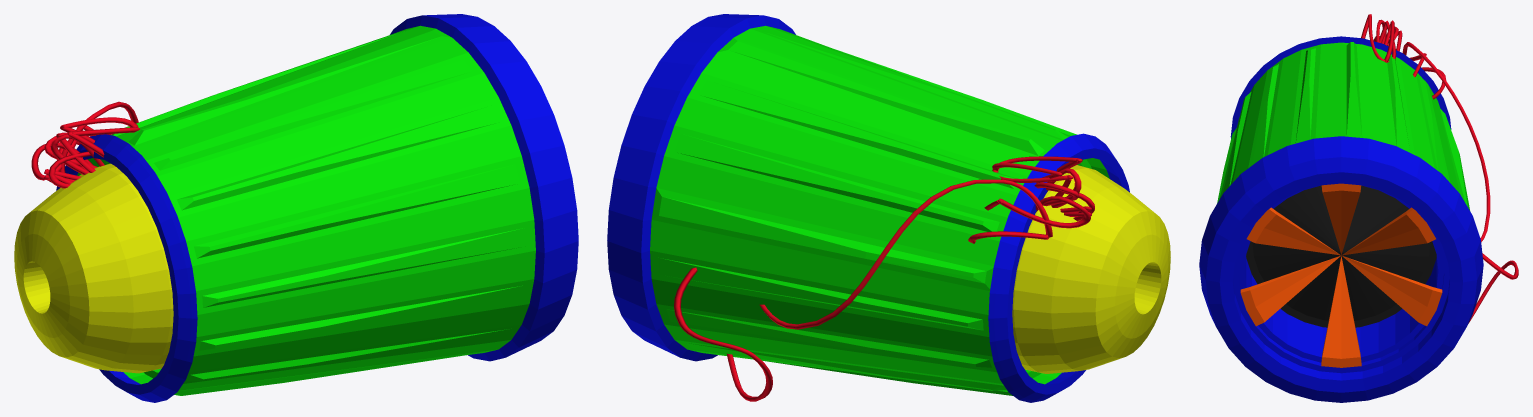
File: propulsor.fbx
The picture shows the model from 3 angles, left to right: view 1: azimuth 30°, elevation 25°; view 2: azimuth 150°, elevation 25°; view 3: azimuth 270°, elevation 25°; orthographic projection. The views are drawn at different scales.
Visible parts, largest first — view 1: BounceSpline.002; view 2: BounceSpline.002; view 3: BounceSpline.002.
Part boxes in pixels (x1,y1,x2,y2): BounceSpline.002: [14, 14, 578, 402]; BounceSpline.002: [607, 14, 1170, 402]; BounceSpline.002: [1199, 14, 1518, 402].
Bounding box in the file's own units: 367 × 243 × 273.
